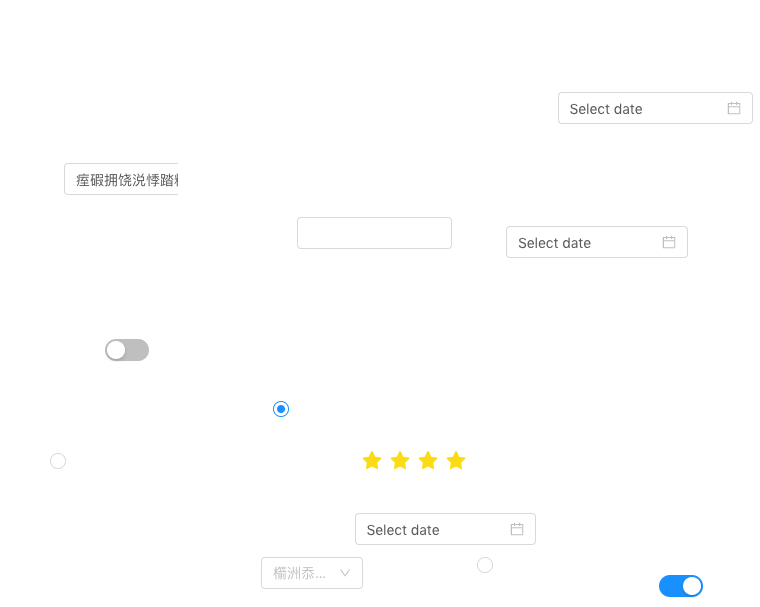DatePicker: (558, 92, 753, 124), (506, 226, 688, 258), (355, 513, 536, 545)
Input: (297, 217, 452, 249), (64, 163, 178, 195)
Radio: (50, 450, 66, 470), (273, 398, 289, 418), (477, 554, 493, 574)
Rate: (362, 444, 482, 476)
Select: (261, 557, 363, 589)
Switch: (659, 574, 703, 598), (105, 338, 149, 362)
